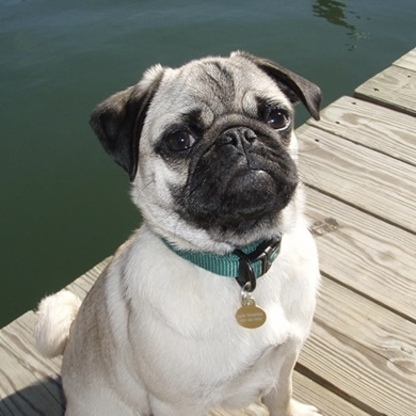Pug: (31, 39, 329, 416)
